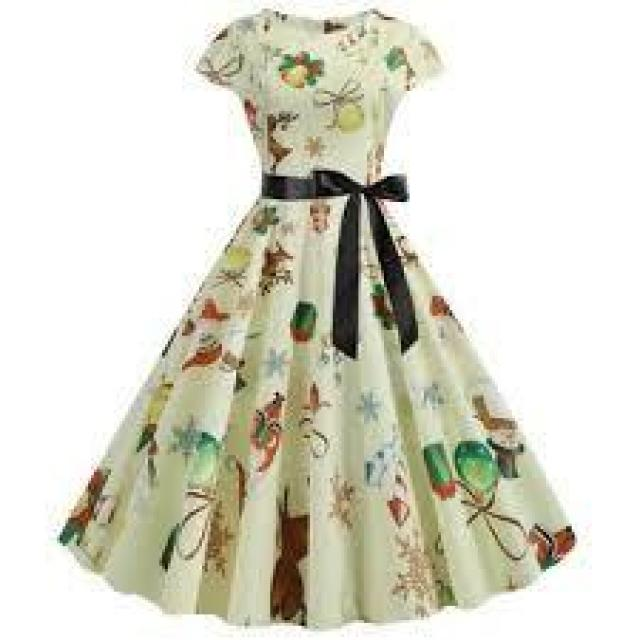dress: (52, 2, 584, 628)
